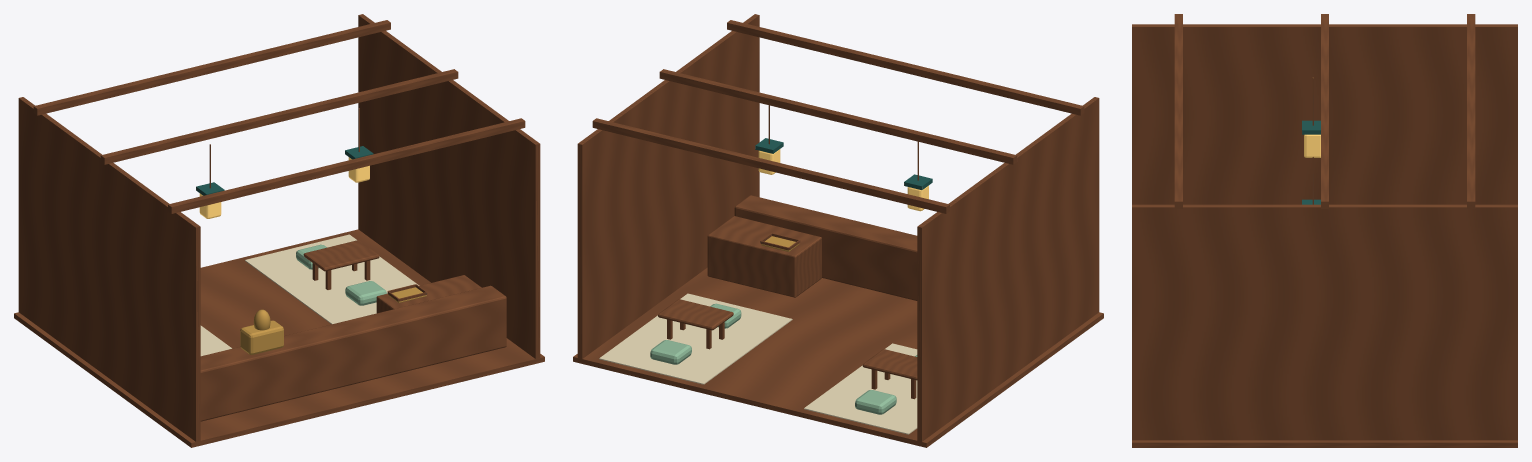
Rendered from blossom_bistro_interior.glb.
3 views of the same model, side by side, from view 1: azimuth 30°, elevation 25°; view 2: azimuth 150°, elevation 25°; view 3: azimuth 270°, elevation 25° (orthographic). The views are drawn at different scales.
Parts seen in each view (by area): view 1: blossom_bistro_interior.005; view 2: blossom_bistro_interior.005; view 3: blossom_bistro_interior.005.
Part boxes in pixels (x1=…): blossom_bistro_interior.005: x1=14, y1=14, x2=544, y2=447; blossom_bistro_interior.005: x1=573, y1=14, x2=1103, y2=447; blossom_bistro_interior.005: x1=1132, y1=14, x2=1517, y2=447.
Bounding box in the file's own units: 7.6 × 4.65 × 6.6.
1 material, 1 textured.
